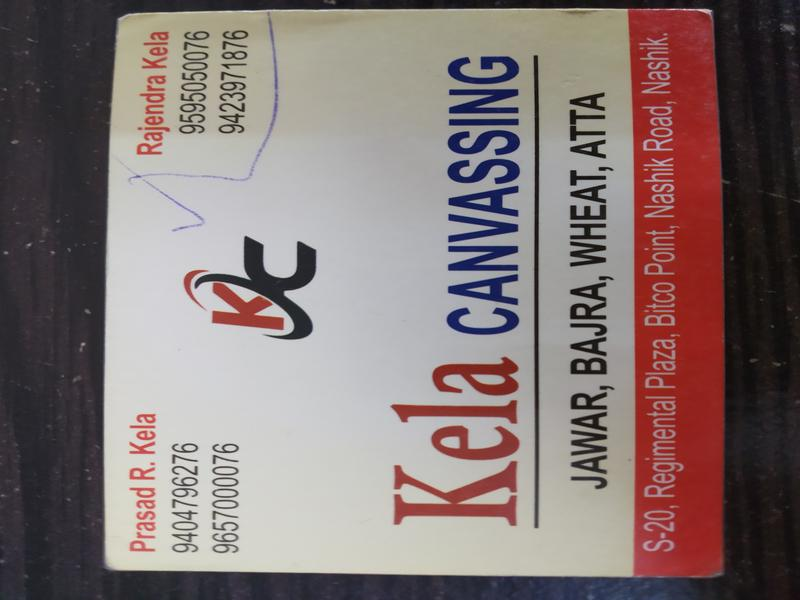card: (95, 10, 732, 584)
